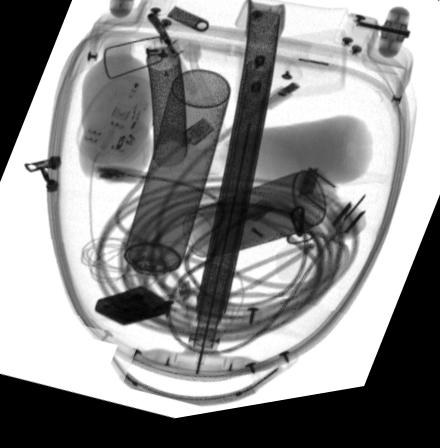Lighter: (94, 288, 169, 329)
Sprayer: (110, 76, 230, 317)
